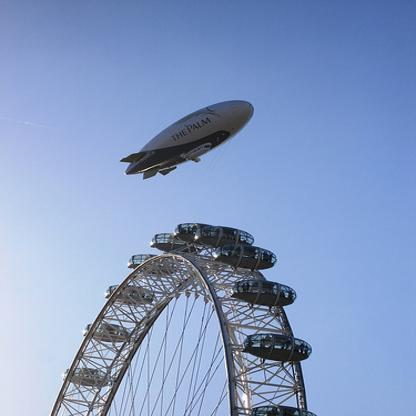Airship: (118, 99, 258, 185)
